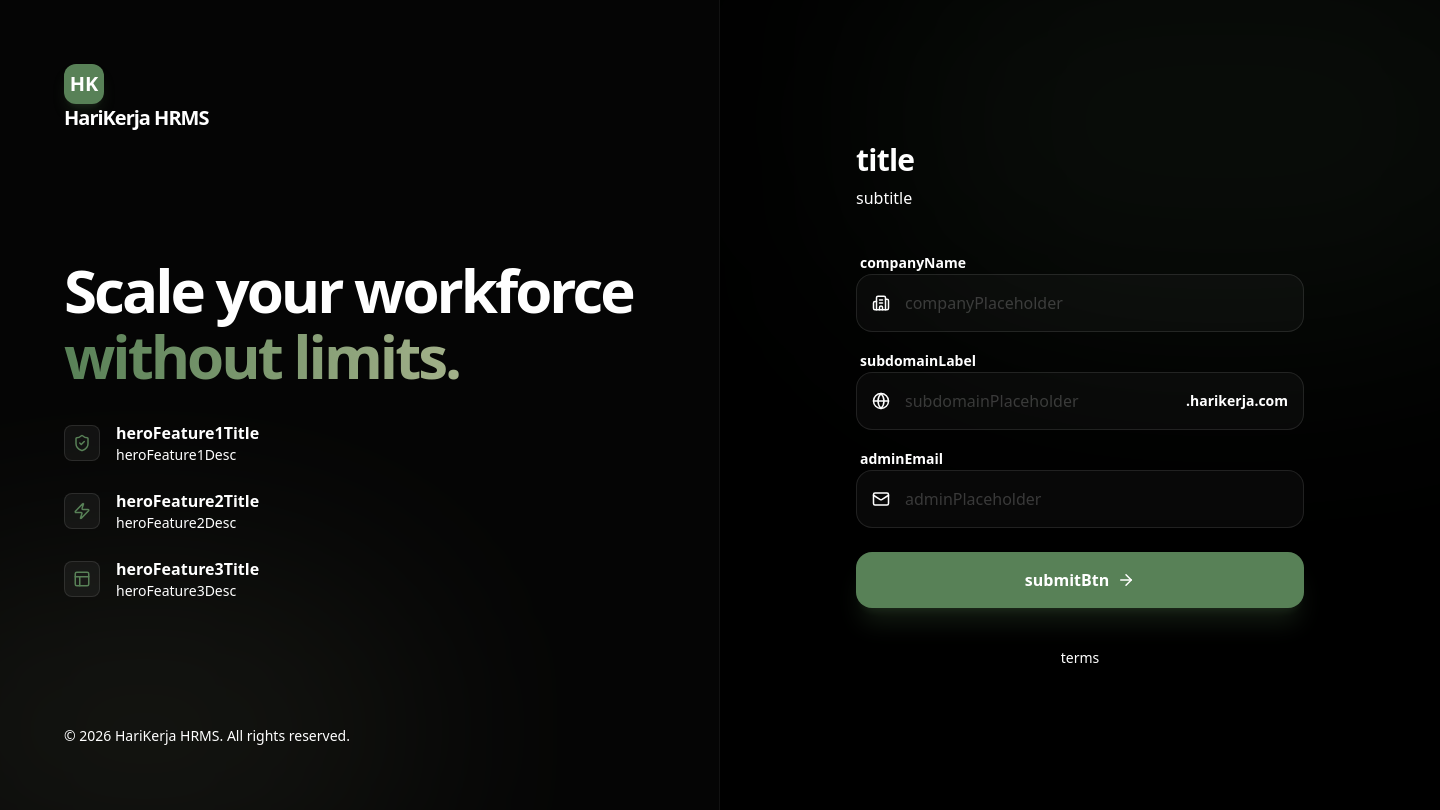
SignupPage Component › handles successful form submission
Type "Acme Corp" into the field with placeholder "companyPlaceholder" at [1080, 303], box [856,274,1304,332]
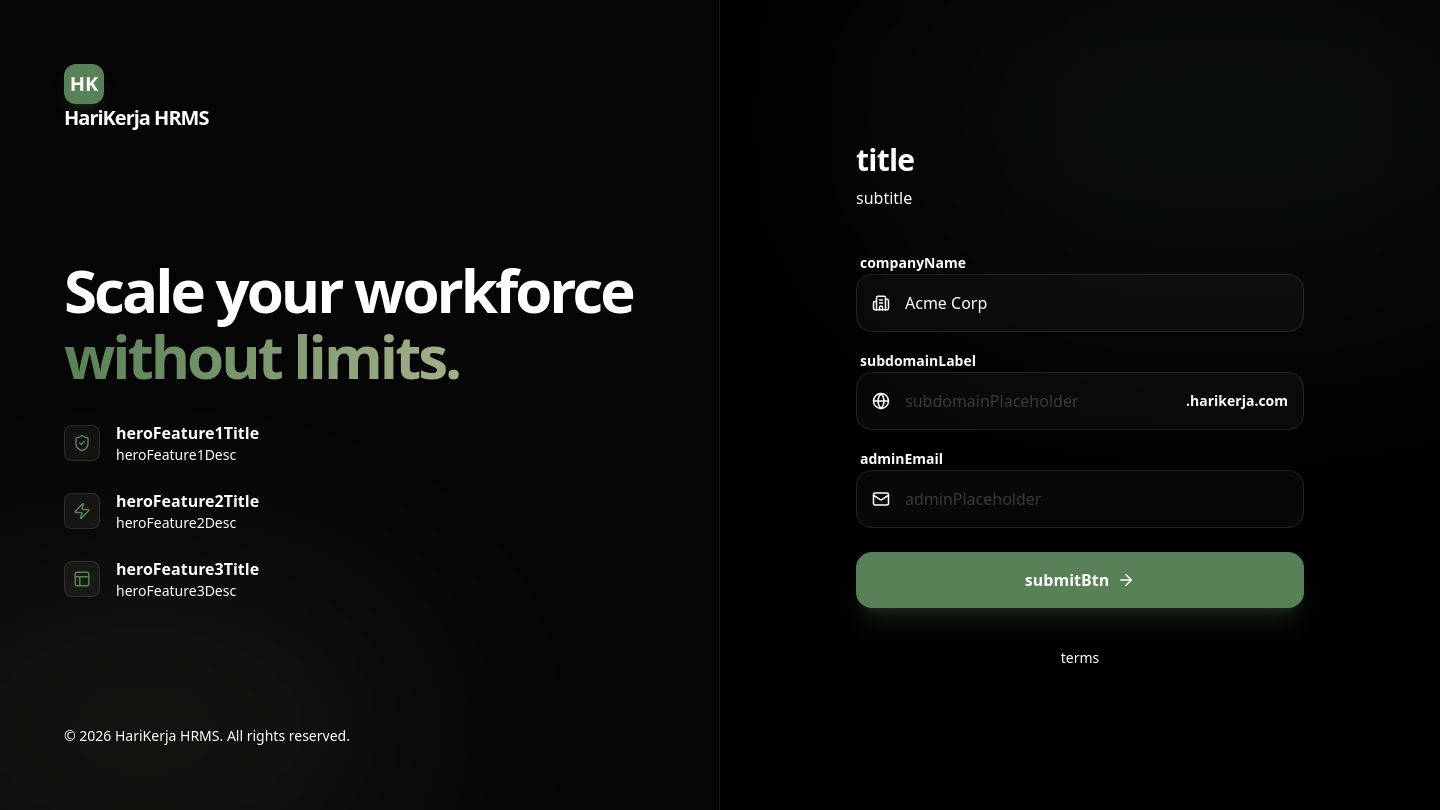
Type "acmecorp" into the field with placeholder "subdomainPlaceholder" at [1080, 401], box [856,372,1304,430]
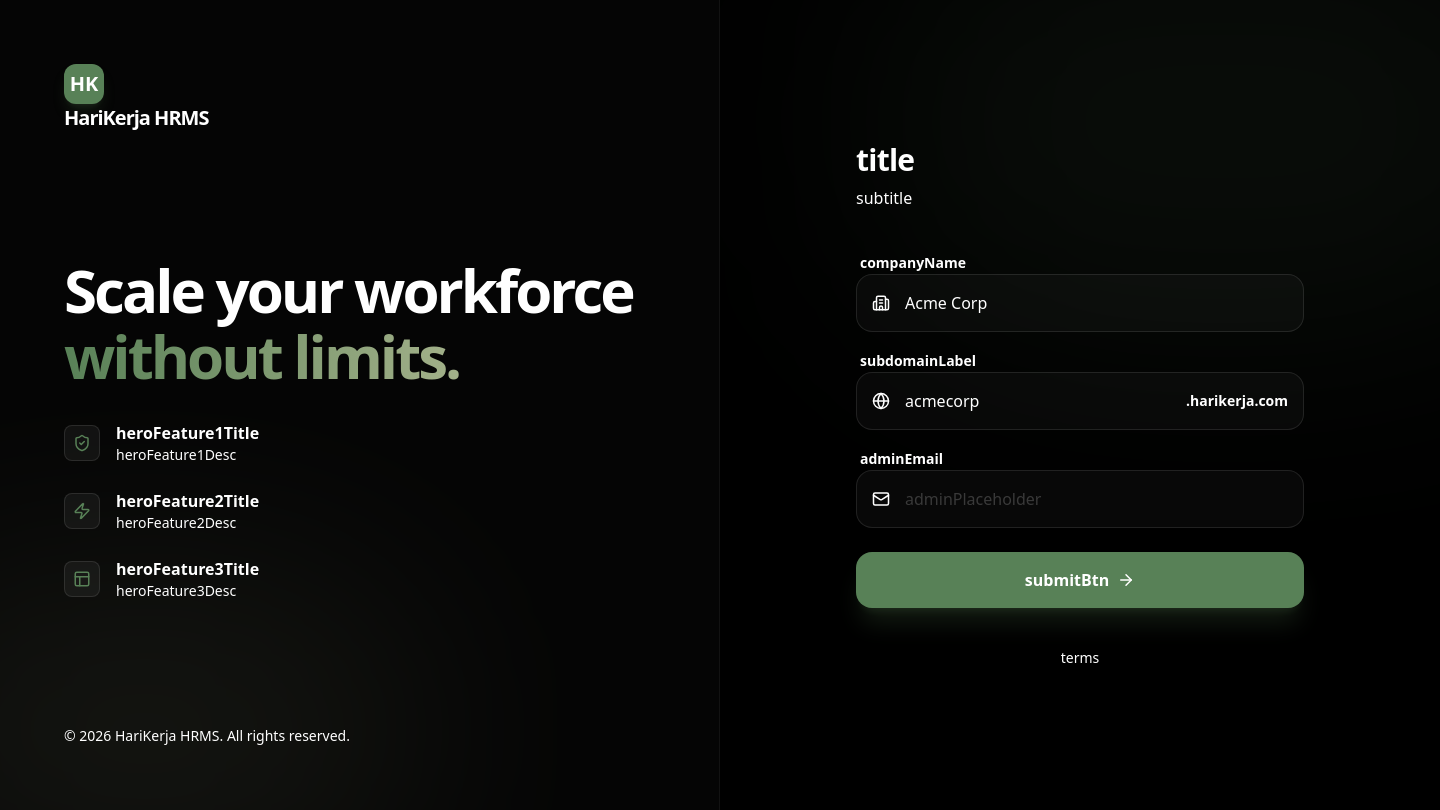
Type "test@acme.com" into the field with placeholder "adminPlaceholder" at [1080, 499], box [856,470,1304,528]
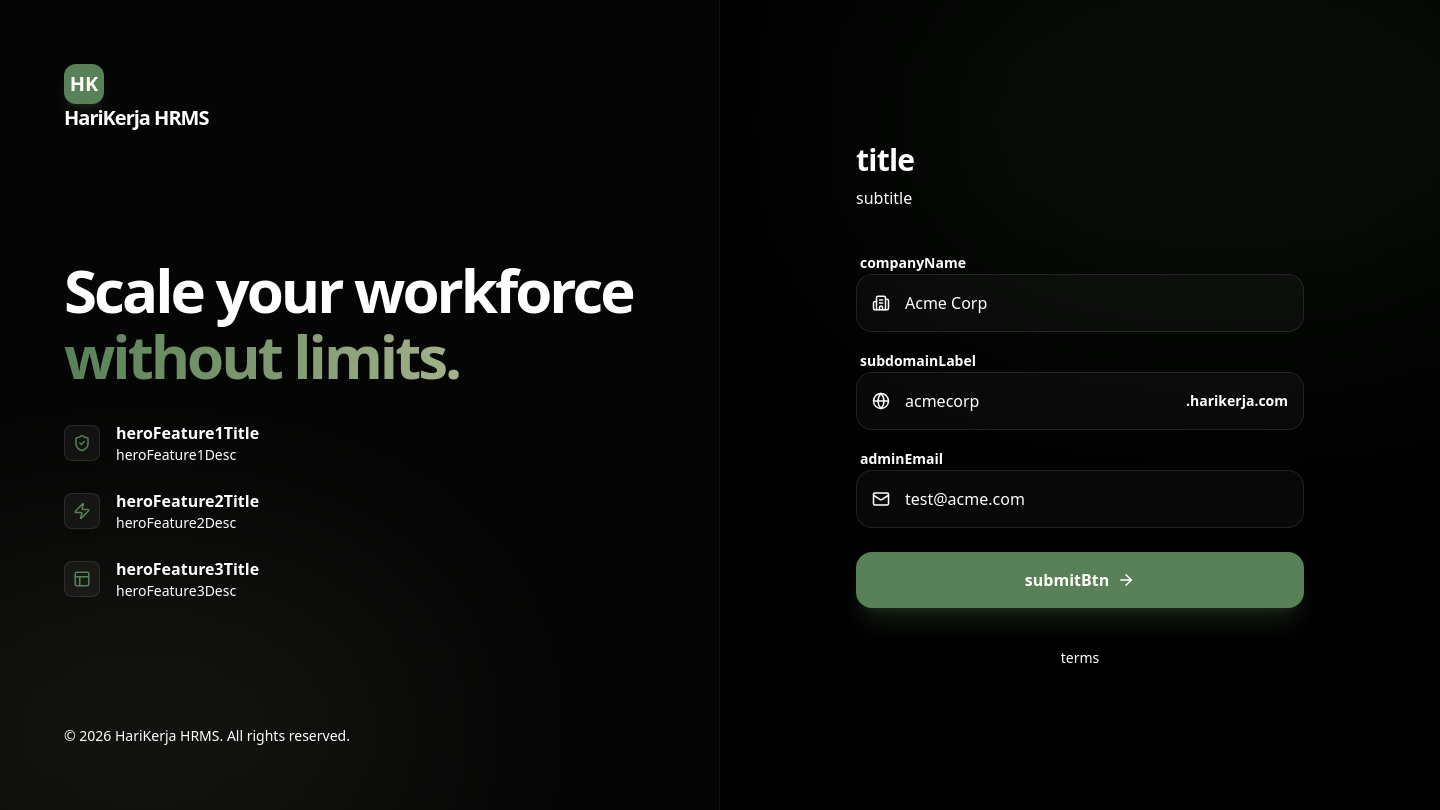
Click the button "submitBtn" at [1080, 580], box [856,552,1304,608]
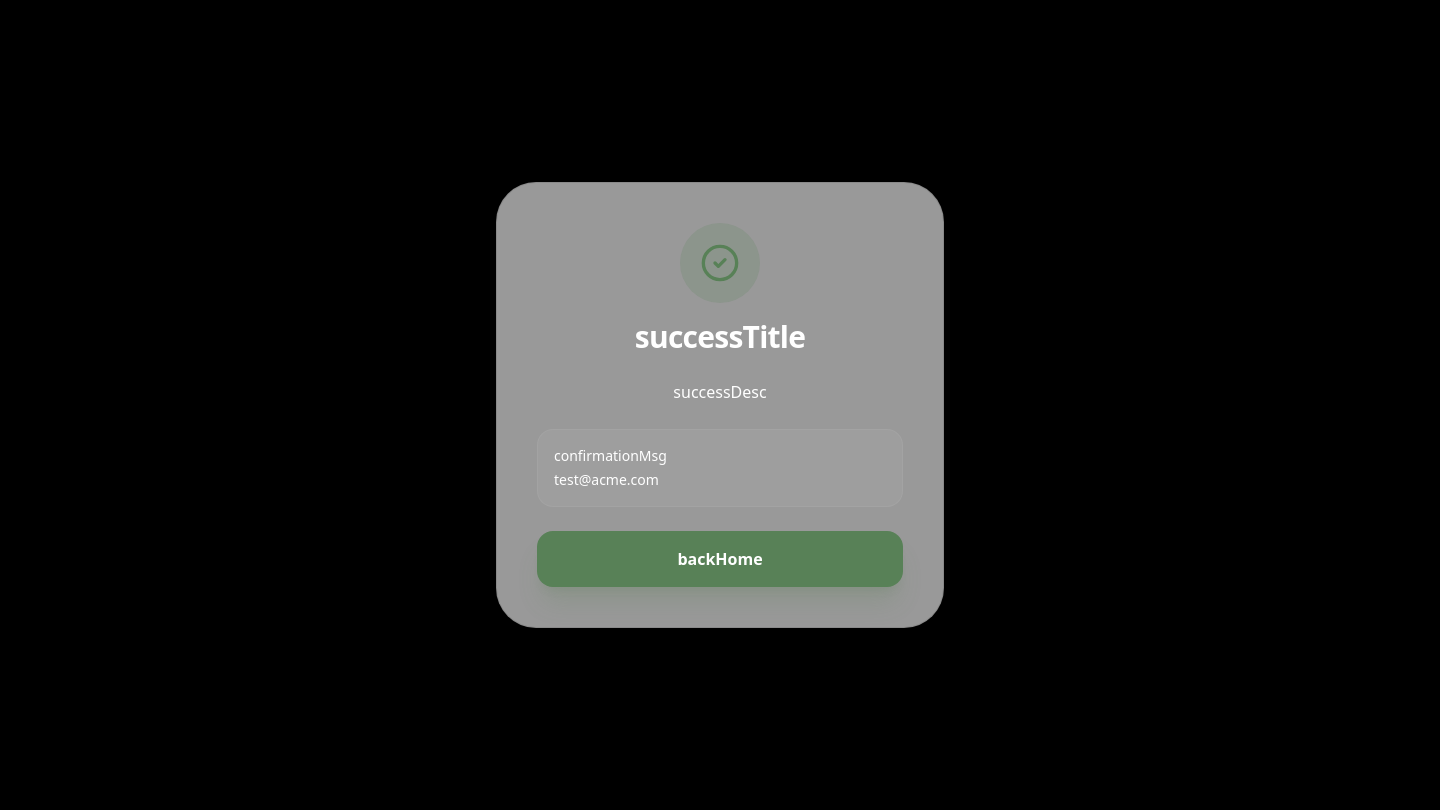
Result: the heading "successTitle" is shown at [635,316,805,357]
